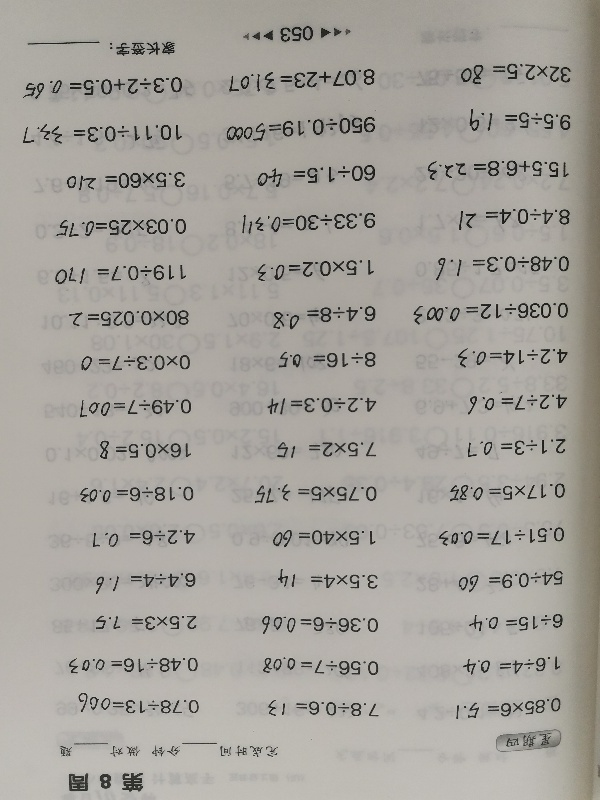equation: (410, 300, 573, 328), (19, 121, 185, 148), (20, 75, 187, 100), (433, 252, 574, 281), (424, 157, 573, 184), (225, 67, 379, 93), (222, 117, 380, 142), (239, 211, 380, 237), (268, 565, 385, 595), (252, 480, 381, 507), (75, 691, 204, 718), (53, 216, 191, 241), (254, 163, 380, 190), (52, 262, 191, 286), (436, 525, 569, 550), (458, 60, 575, 88), (466, 105, 574, 135), (258, 611, 382, 637), (456, 205, 575, 232), (454, 344, 571, 371), (66, 654, 203, 677), (254, 258, 378, 283), (447, 480, 570, 505), (66, 307, 193, 331), (269, 304, 380, 331), (464, 387, 571, 415), (77, 396, 196, 421), (260, 655, 383, 679), (264, 696, 382, 721), (77, 483, 198, 507), (64, 170, 189, 193), (269, 525, 379, 550), (77, 351, 194, 374), (455, 569, 567, 593), (453, 697, 565, 721), (93, 571, 200, 596), (96, 436, 195, 463), (265, 394, 380, 417), (464, 436, 570, 460), (90, 527, 199, 550), (275, 347, 379, 371), (92, 612, 200, 635), (273, 438, 380, 461), (466, 611, 568, 635), (460, 655, 564, 678)
